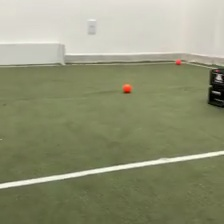ball: (121, 82, 132, 94), (174, 56, 183, 66)
goal: (1, 41, 67, 66)
robot: (206, 65, 224, 109)
